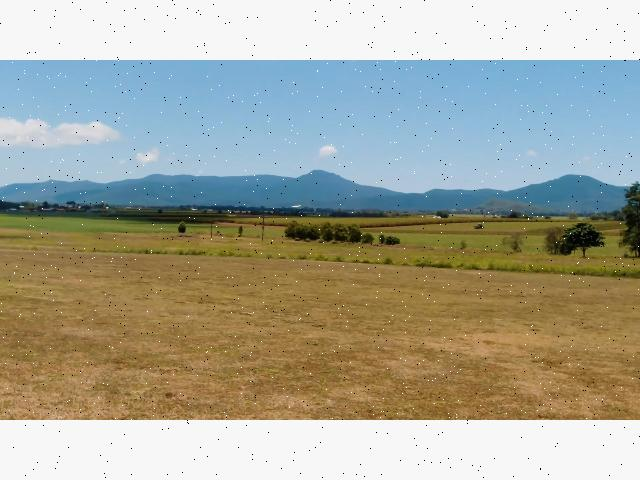Anti-Drone: (286, 199, 308, 214)
